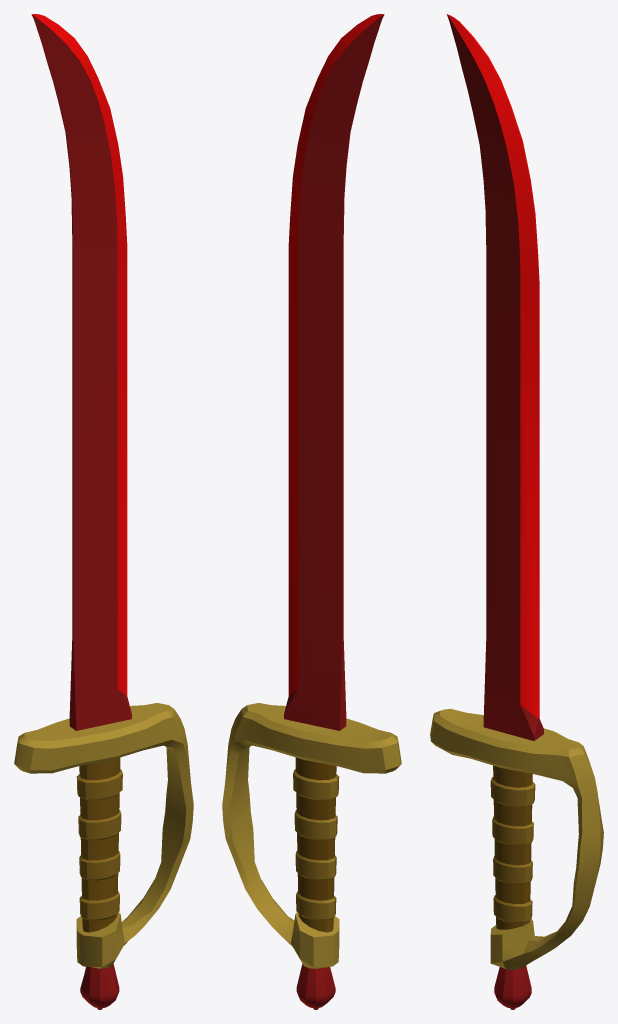
The model's file is SM_Sword04_Cutlass_5Fantasy_Red.fbx.
The picture shows the model from 3 angles, left to right: view 1: azimuth 30°, elevation 25°; view 2: azimuth 150°, elevation 25°; view 3: azimuth 330°, elevation 25°; orthographic projection. The views are drawn at different scales.
Visible parts, largest first — view 1: Cube.402, Cylinder.579, Cylinder.580; view 2: Cube.402, Cylinder.579, Cylinder.580; view 3: Cube.402, Cylinder.579, Cylinder.580.
Boxes of the visible parts, <box> form: Cube.402: <box>31,14,131,730</box>; Cylinder.579: <box>14,703,193,1009</box>; Cylinder.580: <box>76,757,122,932</box>; Cube.402: <box>284,14,384,730</box>; Cylinder.579: <box>222,703,401,1009</box>; Cylinder.580: <box>293,757,339,932</box>; Cube.402: <box>446,14,543,740</box>; Cylinder.579: <box>430,708,603,1009</box>; Cylinder.580: <box>490,765,535,929</box>.
Bounding box in the file's own units: 0.1302 × 0.7177 × 0.0394.
